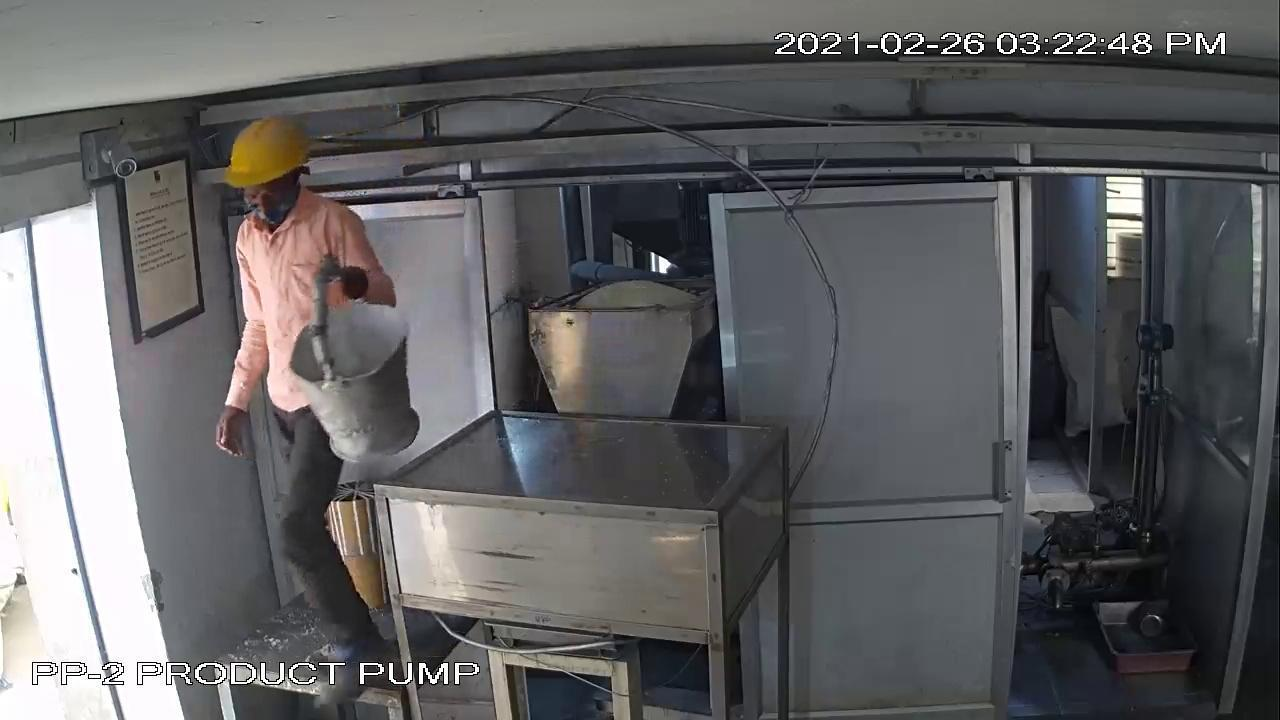helmet: (206, 109, 324, 198)
